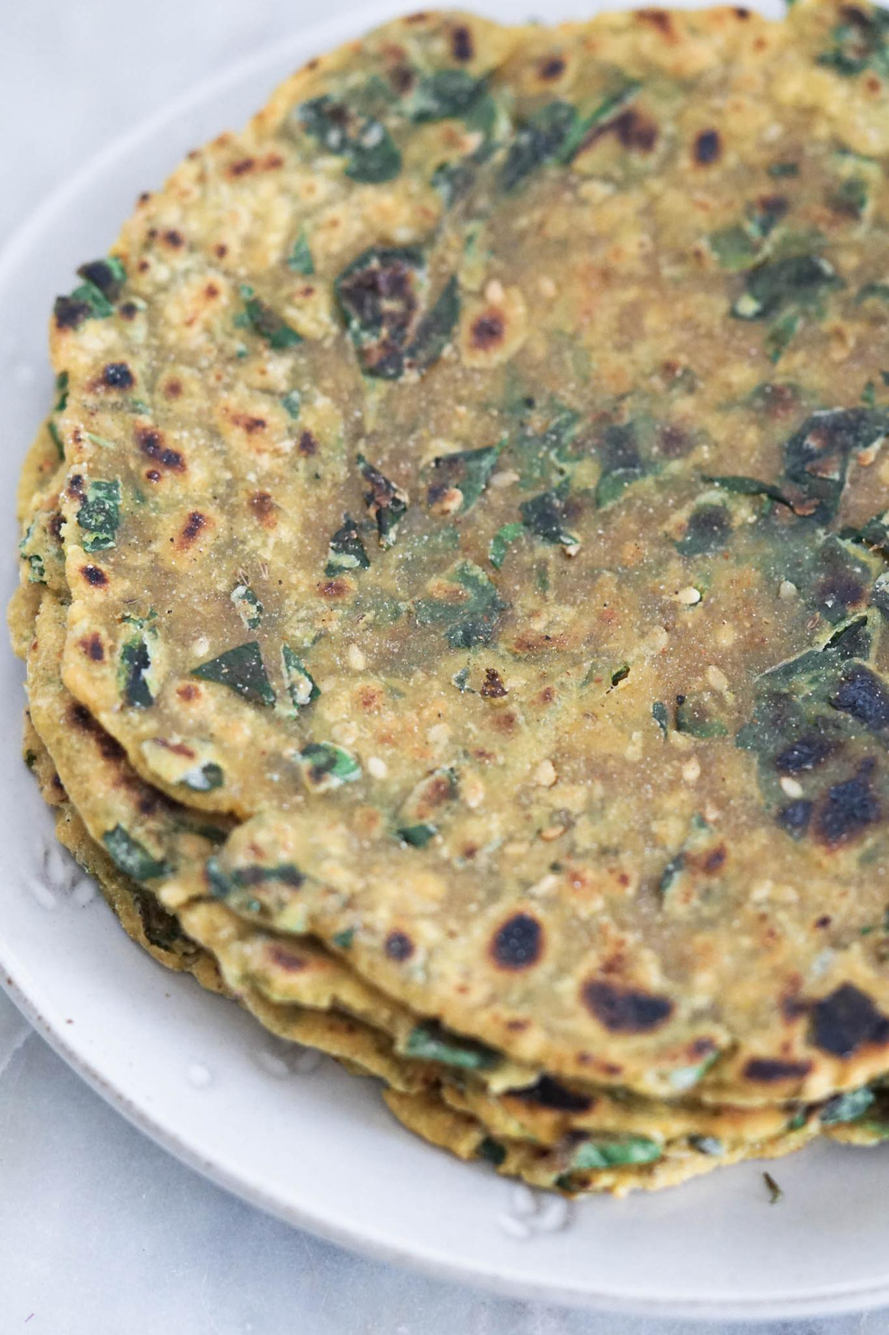thepla: (109, 59, 889, 1016)
